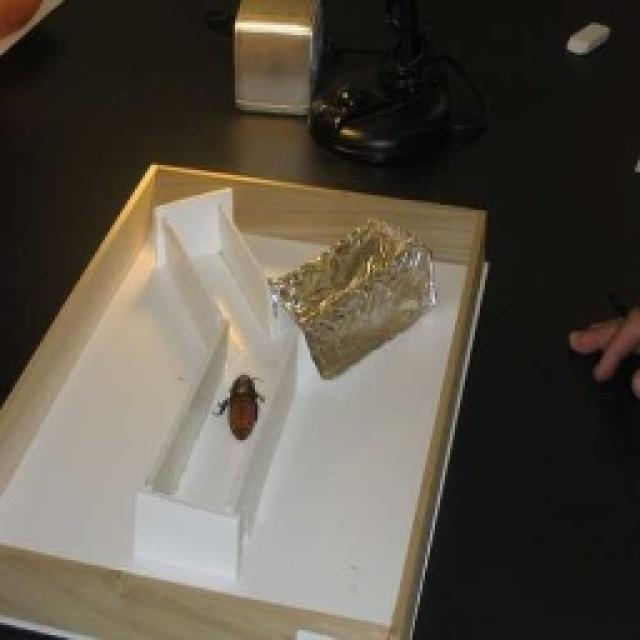cockroach: (211, 369, 270, 445)
